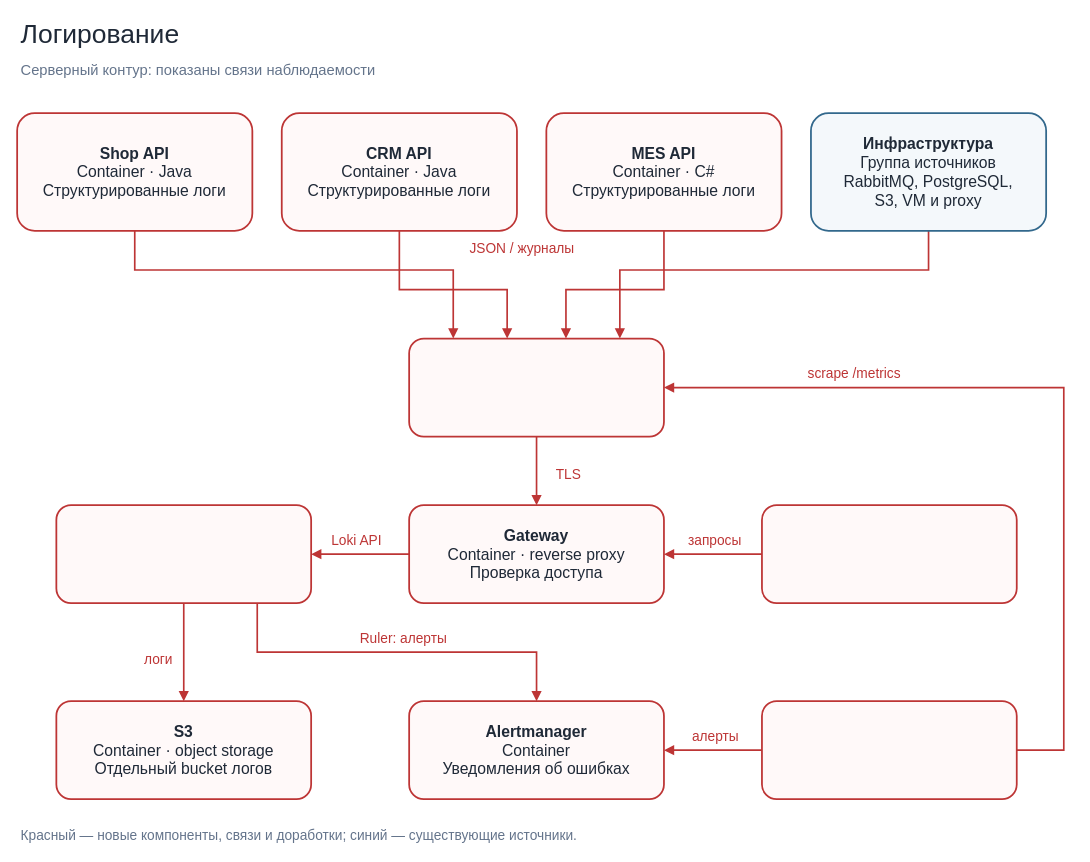
Image size: 1090x862. Some labels were removed from this diagram. Each missing label, with the centre of its shape:
"Grafana Alloy Container · agents Сбор и очистка логов" belongs at (x=536, y=387).
"Grafana Container Поиск по order_id" belongs at (x=889, y=554).
"Loki Container Поиск логов и правила" belongs at (x=183, y=554).
"Prometheus Container Контроль агентов" belongs at (x=889, y=750).
